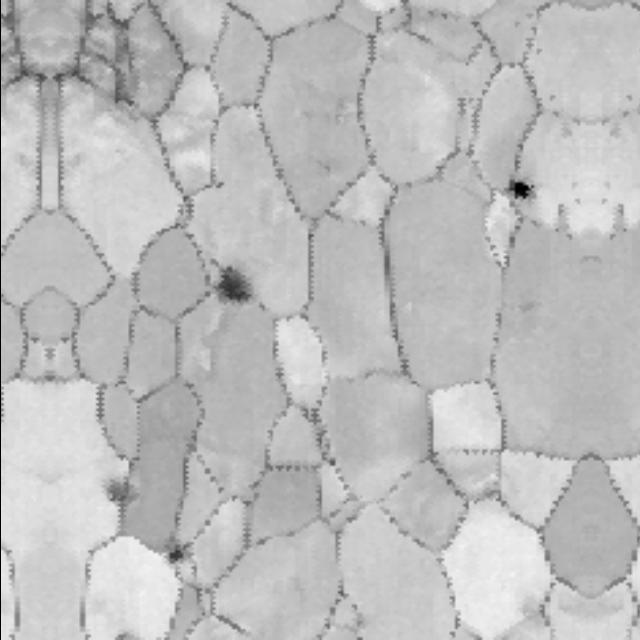good_void: (185, 251, 268, 333), (105, 25, 137, 104), (500, 281, 550, 329), (152, 528, 197, 578), (502, 169, 542, 213), (103, 476, 140, 514), (0, 2, 22, 38)
